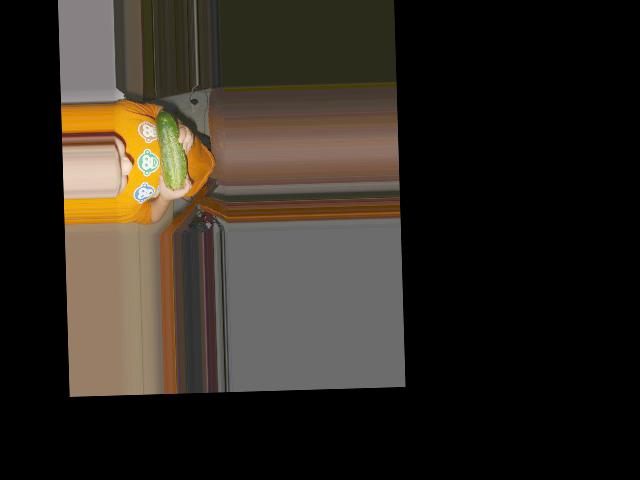cucumber: (155, 110, 187, 191)
